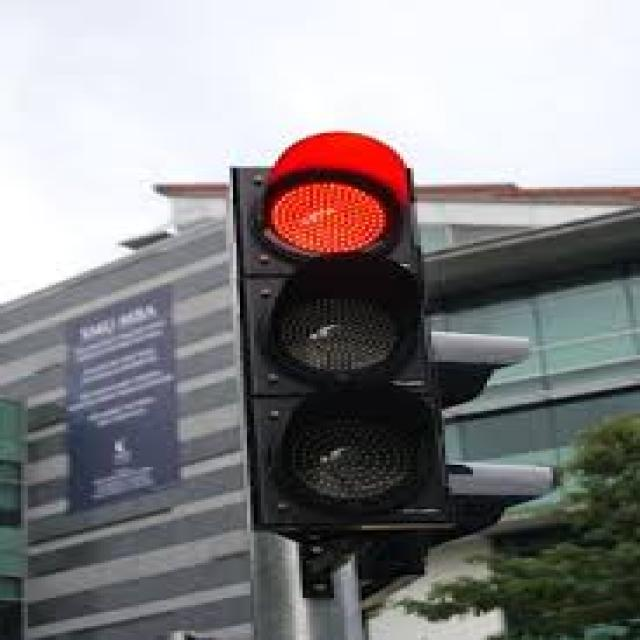red: (235, 170, 431, 524)
